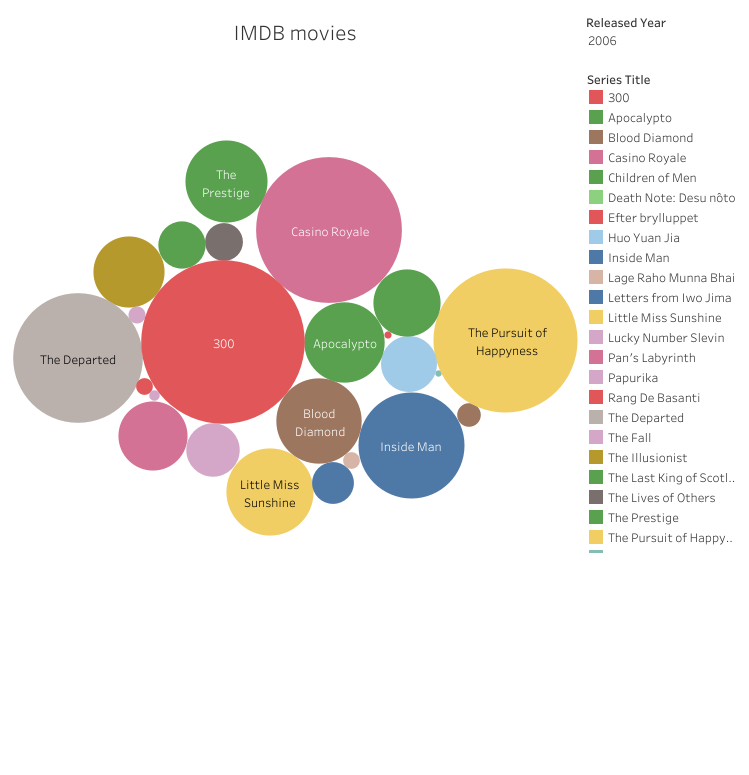

Layout of this report page (visuals, bound fields, positions):
{"tool":"tableau","page":{"name":"IMDB movies details","canvas":[1000,1000],"units":"permille","ordinal":0},"visuals":[{"type":"worksheet","title":"IMDB movies","mark":"Circle","box":[10.7,13.5,765.3,973]},{"type":"filter","title":"IMDB movies","param":"[federated.0uumnhe18h66o7165razb17sbae0].[none:Released_Year:ok]","box":[776,13.5,213.3,87.7]},{"type":"legend","title":"IMDB movies","param":"[federated.0uumnhe18h66o7165razb17sbae0].[none:Series_Title:nk]","box":[776,101.2,213.3,831.4]}]}

Visuals, with their boxes on the dashboard's canvas, which has no fixed pixel size, in thousandths of its width and height (x1, y1, x2, y2). These are canvas units, not pixel positions in the 749x775 screenshot, which may show the page scaled, cropped or inside an application window:
"IMDB movies" worksheet (Circle marks): box(11, 14, 776, 986)
"IMDB movies" filter: box(776, 14, 989, 101)
"IMDB movies" legend: box(776, 101, 989, 933)
